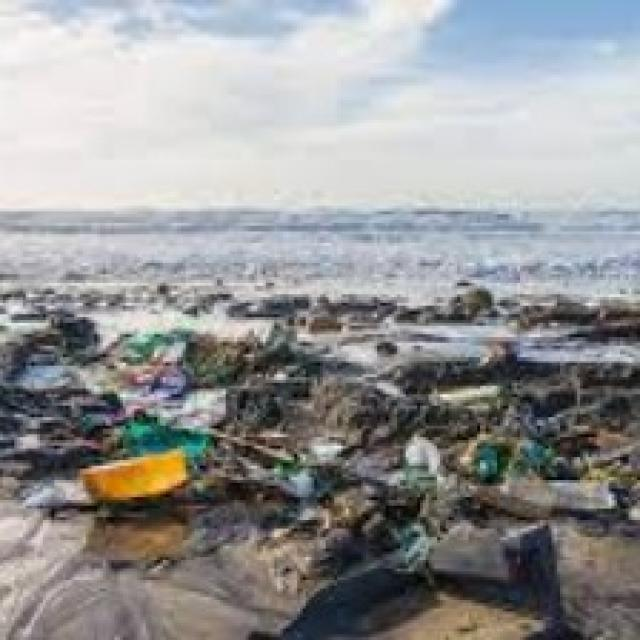heap: (236, 354, 573, 573)
